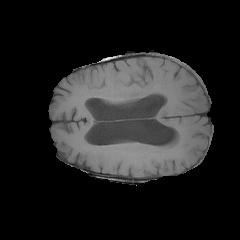glioma: (80, 130, 181, 161)
